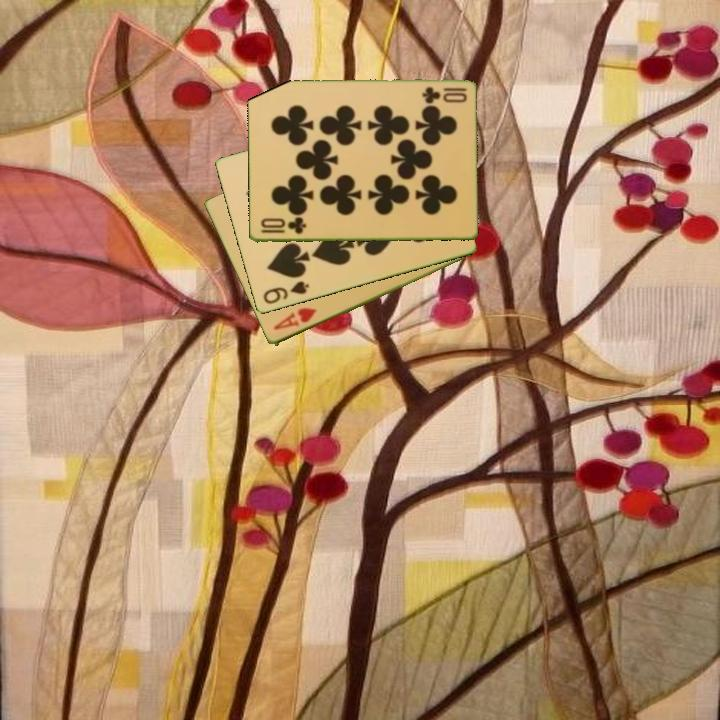10c: (257, 215, 308, 237), (419, 83, 469, 105)
9s: (259, 278, 312, 307)
Ah: (270, 304, 319, 333)
